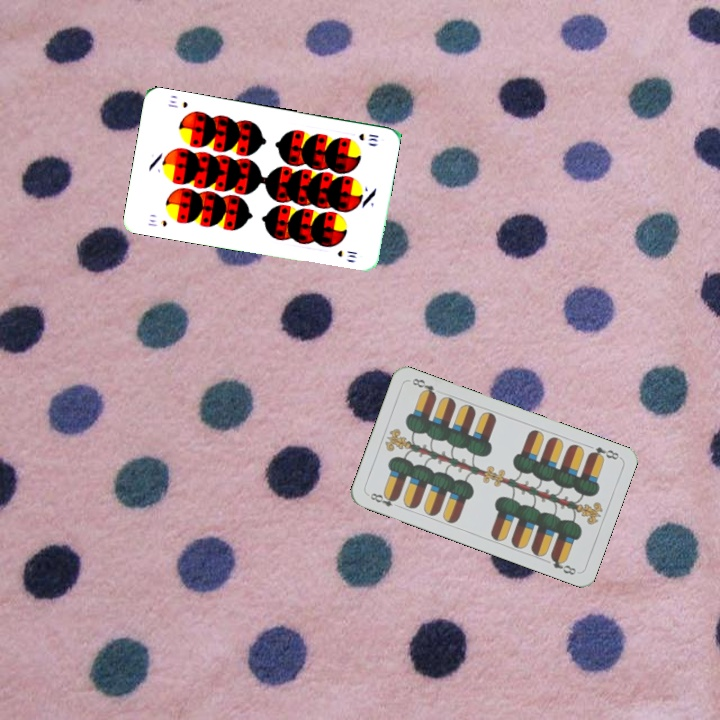E8: (584, 442, 622, 463), (364, 489, 400, 510)
S10: (354, 129, 381, 144), (144, 215, 169, 229)
